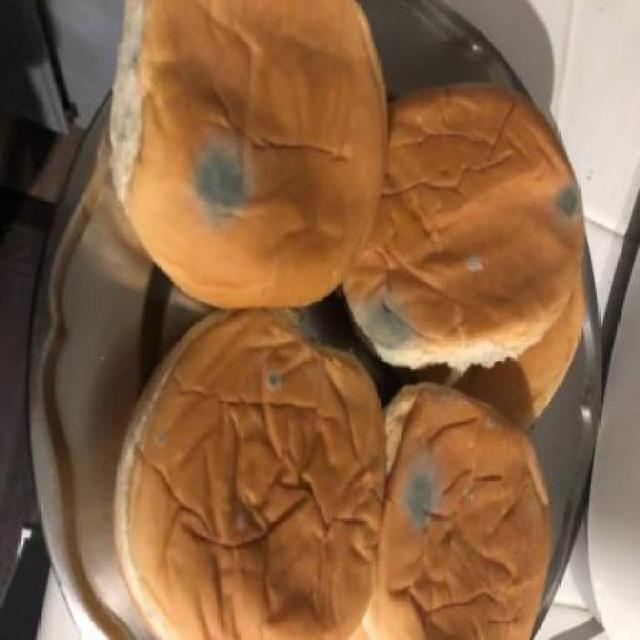mold_bread: (182, 137, 254, 225), (348, 286, 417, 354), (401, 449, 444, 533), (551, 179, 588, 225), (461, 246, 487, 276), (265, 369, 286, 393), (152, 429, 172, 449)
